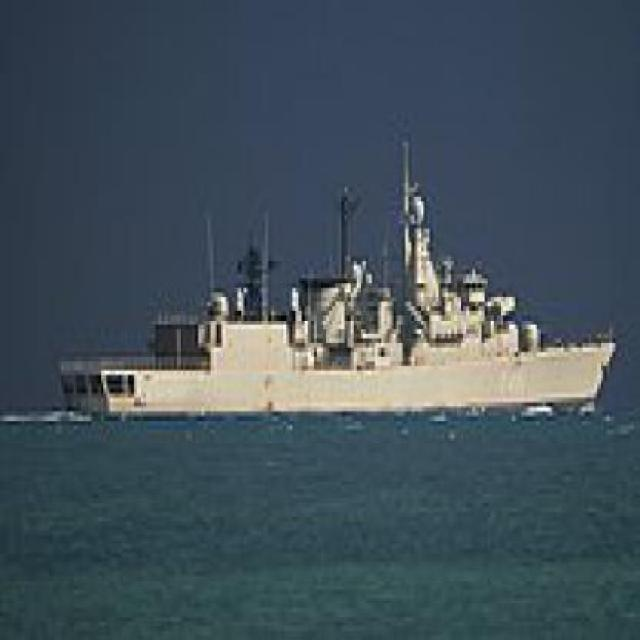warship2: (59, 129, 626, 431)
